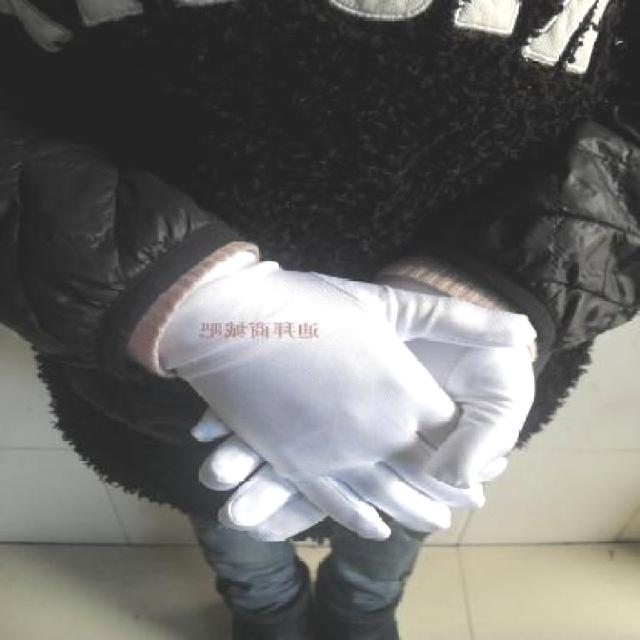hand_glove: (187, 275, 531, 543)
